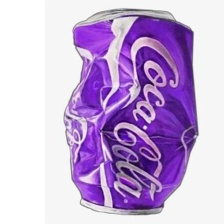can: (60, 5, 202, 217)
